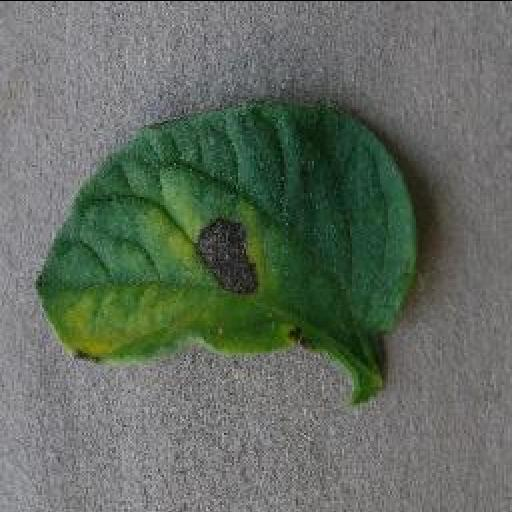disease_tomato: (30, 94, 422, 400)
